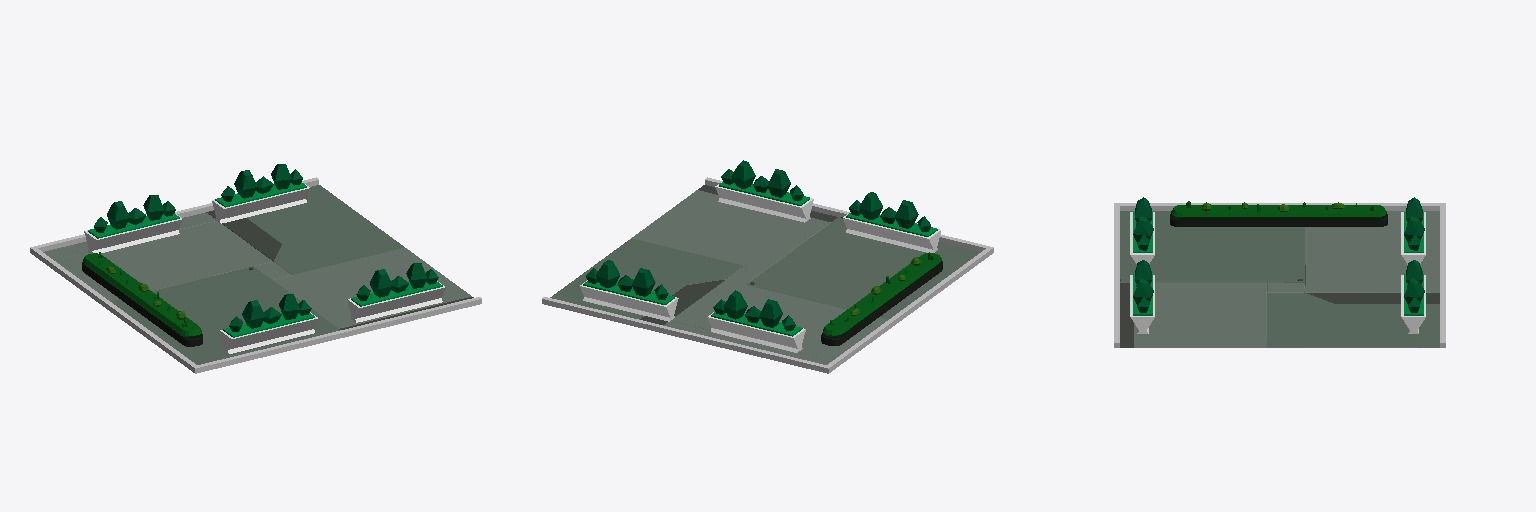
The picture shows the model from 3 angles: view 1: azimuth 30°, elevation 25°; view 2: azimuth 150°, elevation 25°; view 3: azimuth 270°, elevation 25°; orthographic projection.
Visible parts, largest first — view 1: Scifi_Panel_04_Plaza014_group4.038_Scifi_Panel_04_Plaza014_group, Cube.1136_Cube.1265, base_pot.002_base_pot.030, base_pot.003_base_pot.031, base_pot.001_base_pot.029, base_pot.000_base_pot.028, TreePatch_Plaza014_group3.002_TreePatch_Plaza014_group3.040; view 2: Scifi_Panel_04_Plaza014_group4.038_Scifi_Panel_04_Plaza014_group, Cube.1136_Cube.1265, base_pot.001_base_pot.029, base_pot.003_base_pot.031, base_pot.002_base_pot.030, base_pot.000_base_pot.028, TreePatch_Plaza014_group3.002_TreePatch_Plaza014_group3.040; view 3: Scifi_Panel_04_Plaza014_group4.038_Scifi_Panel_04_Plaza014_group, TreePatch_Plaza014_group3.002_TreePatch_Plaza014_group3.040, Cube.1136_Cube.1265, base_pot.003_base_pot.031, base_pot.000_base_pot.028, base_pot.002_base_pot.030, base_pot.001_base_pot.029.
Part boxes in pixels (x1,y1,x2,y2): Scifi_Panel_04_Plaza014_group4.038_Scifi_Panel_04_Plaza014_group: (43, 185, 473, 364); Cube.1136_Cube.1265: (30, 177, 481, 373); base_pot.002_base_pot.030: (220, 294, 318, 353); base_pot.003_base_pot.031: (347, 263, 445, 322); base_pot.001_base_pot.029: (84, 195, 182, 253); base_pot.000_base_pot.028: (212, 164, 310, 223); TreePatch_Plaza014_group3.002_TreePatch_Plaza014_group3.040: (82, 253, 202, 346); Scifi_Panel_04_Plaza014_group4.038_Scifi_Panel_04_Plaza014_group: (550, 185, 980, 364); Cube.1136_Cube.1265: (542, 177, 993, 373); base_pot.001_base_pot.029: (707, 290, 805, 352); base_pot.003_base_pot.031: (715, 160, 813, 222); base_pot.002_base_pot.030: (843, 192, 940, 252); base_pot.000_base_pot.028: (580, 260, 678, 321); TreePatch_Plaza014_group3.002_TreePatch_Plaza014_group3.040: (821, 253, 942, 345); Scifi_Panel_04_Plaza014_group4.038_Scifi_Panel_04_Plaza014_group: (1120, 211, 1439, 347); TreePatch_Plaza014_group3.002_TreePatch_Plaza014_group3.040: (1170, 205, 1387, 226); Cube.1136_Cube.1265: (1114, 203, 1445, 347); base_pot.003_base_pot.031: (1130, 260, 1154, 333); base_pot.000_base_pot.028: (1401, 260, 1425, 333); base_pot.002_base_pot.030: (1130, 197, 1154, 263); base_pot.001_base_pot.029: (1401, 197, 1425, 264).
Size of the model in its own units: 10 by 1.51 by 10.